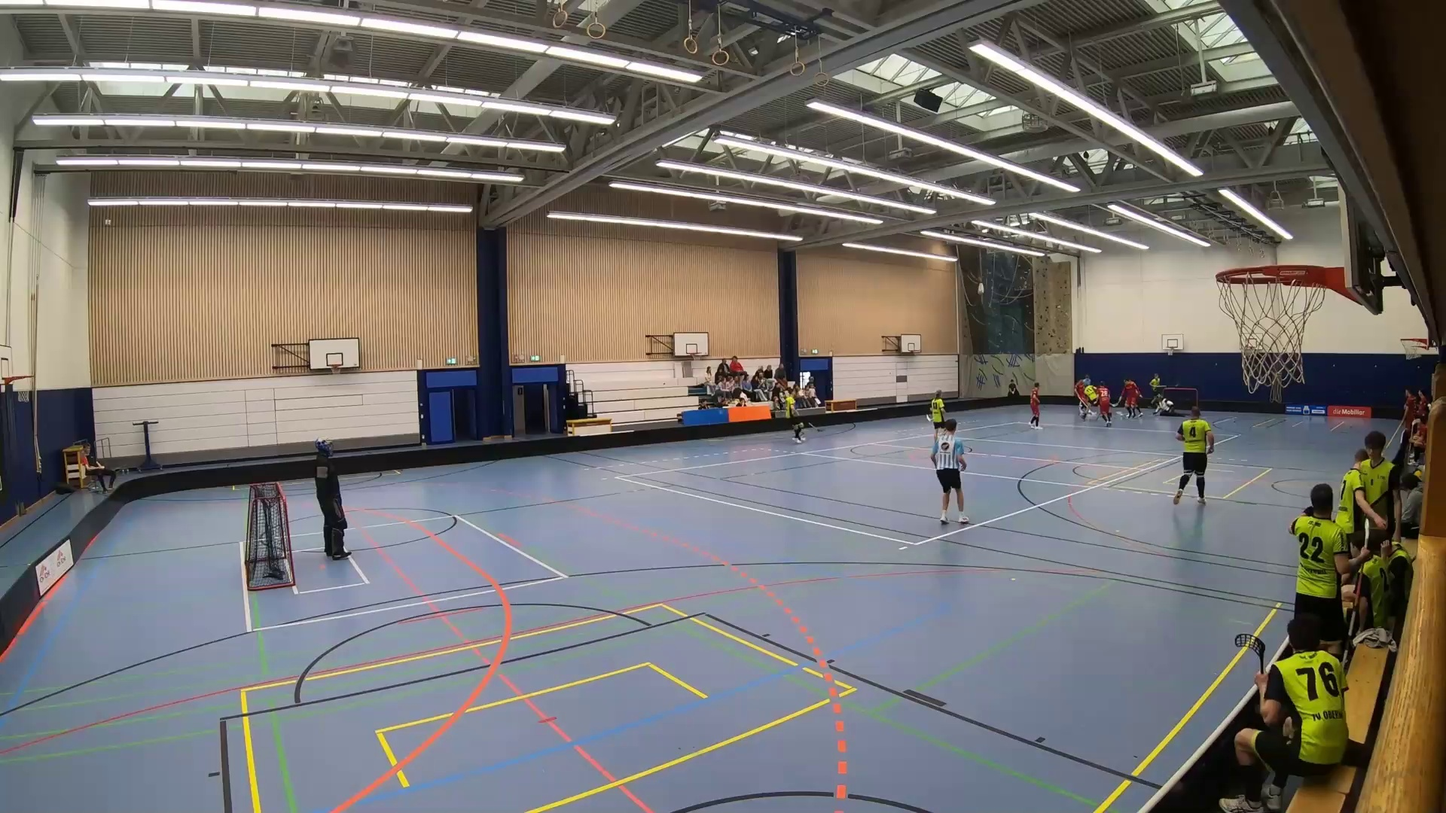Schiri: (925, 414, 984, 531), (1083, 372, 1091, 386)
goalkeeper: (285, 414, 376, 569), (1153, 390, 1186, 420)
player: (1160, 409, 1221, 507), (770, 385, 835, 453), (917, 384, 950, 442), (1019, 377, 1053, 429), (1095, 381, 1116, 429), (1072, 375, 1090, 420), (1121, 378, 1137, 421), (1144, 369, 1161, 401), (1134, 378, 1145, 421), (1084, 382, 1097, 417)
